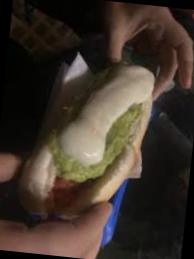Completos: (12, 41, 164, 233)
